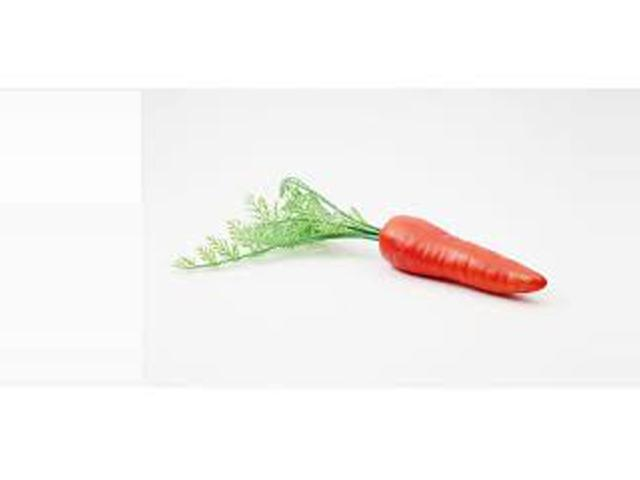carrot: (373, 209, 567, 315)
